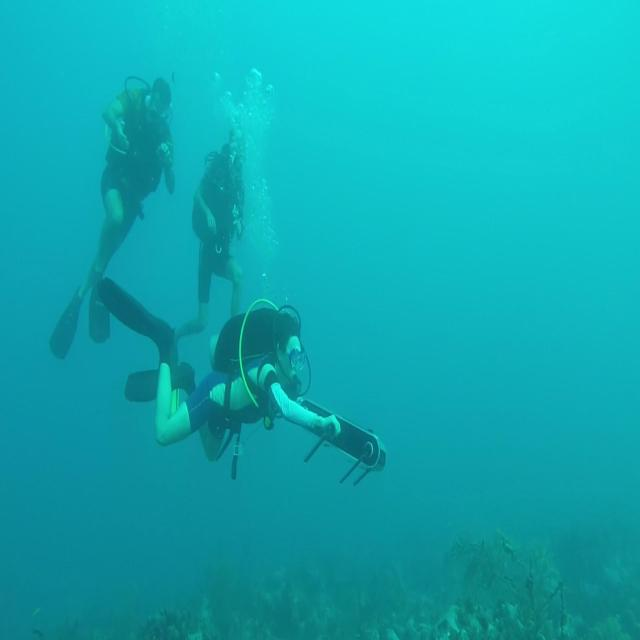human: (88, 276, 341, 474), (48, 74, 175, 360), (174, 123, 246, 342)
